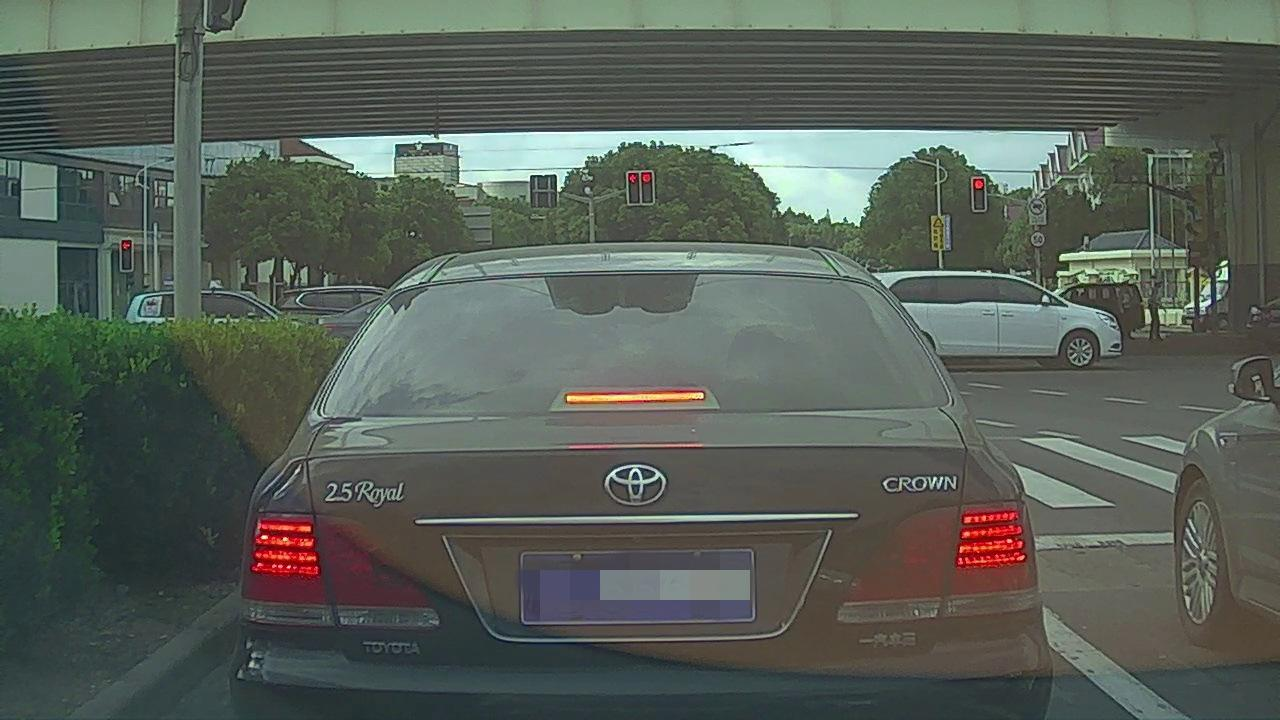traffic_light: (972, 177, 986, 210), (641, 172, 653, 204), (628, 173, 640, 203), (121, 238, 132, 270)
